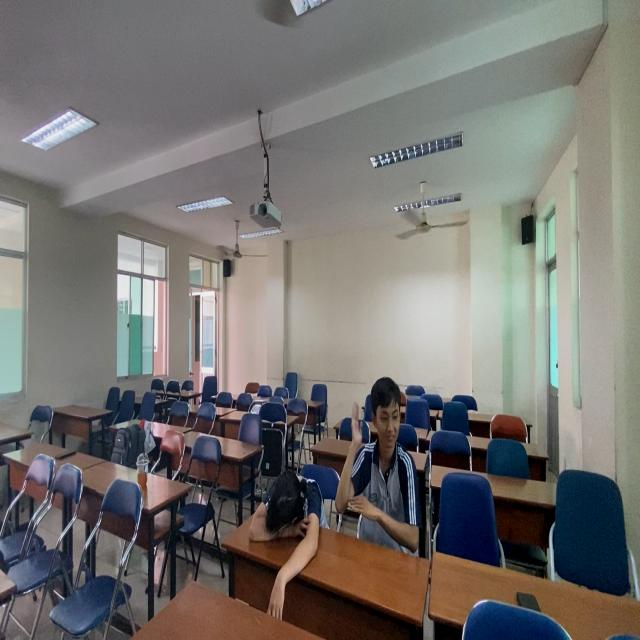raise_hand: (335, 370, 424, 550)
sleep: (239, 457, 333, 566)
